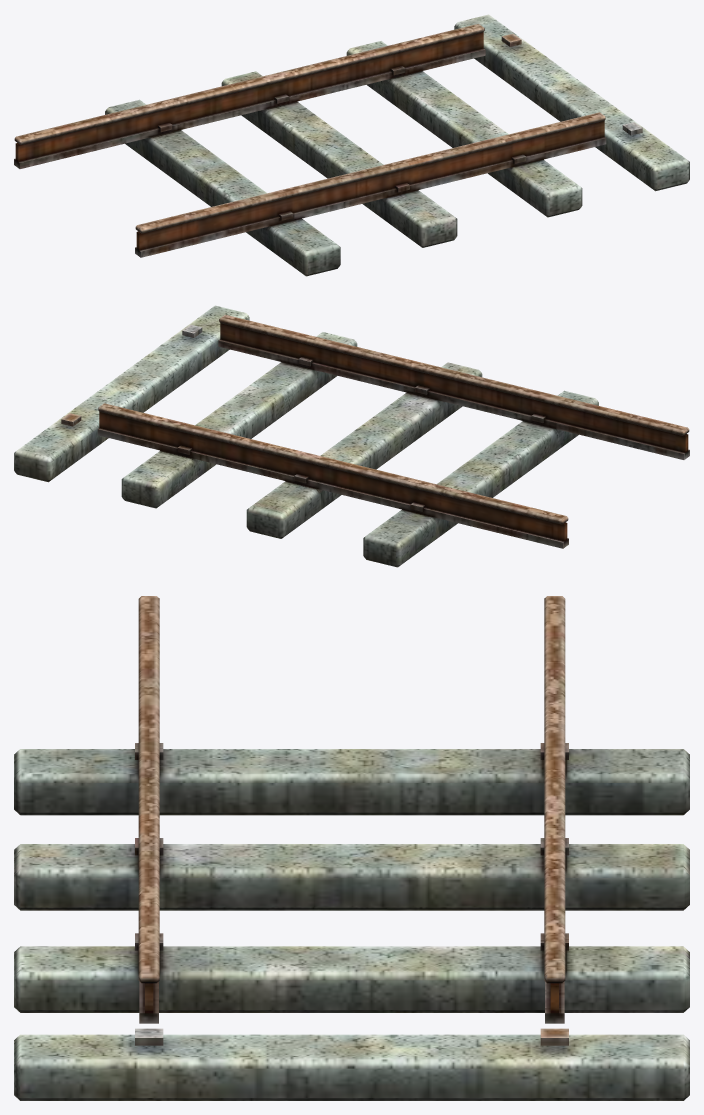
File: trilho.glb
3 renders of one model, top to bottom at view 1: azimuth 30°, elevation 25°; view 2: azimuth 150°, elevation 25°; view 3: azimuth 270°, elevation 25°, orthographic. The views are drawn at different scales.
Parts seen in each view (by area): view 1: trilho; view 2: trilho; view 3: trilho.
Part boxes in pixels (x1=…): trilho: x1=14, y1=14, x2=689, y2=276; trilho: x1=14, y1=305, x2=689, y2=567; trilho: x1=14, y1=596, x2=689, y2=1100.
Bounding box in the file's own units: 3.53 × 0.3475 × 2.4.
1 material, 1 textured.
